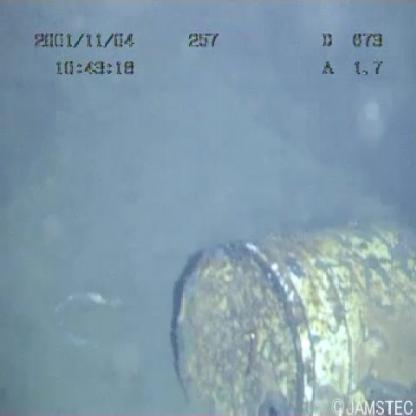Rác: (152, 224, 416, 413)
